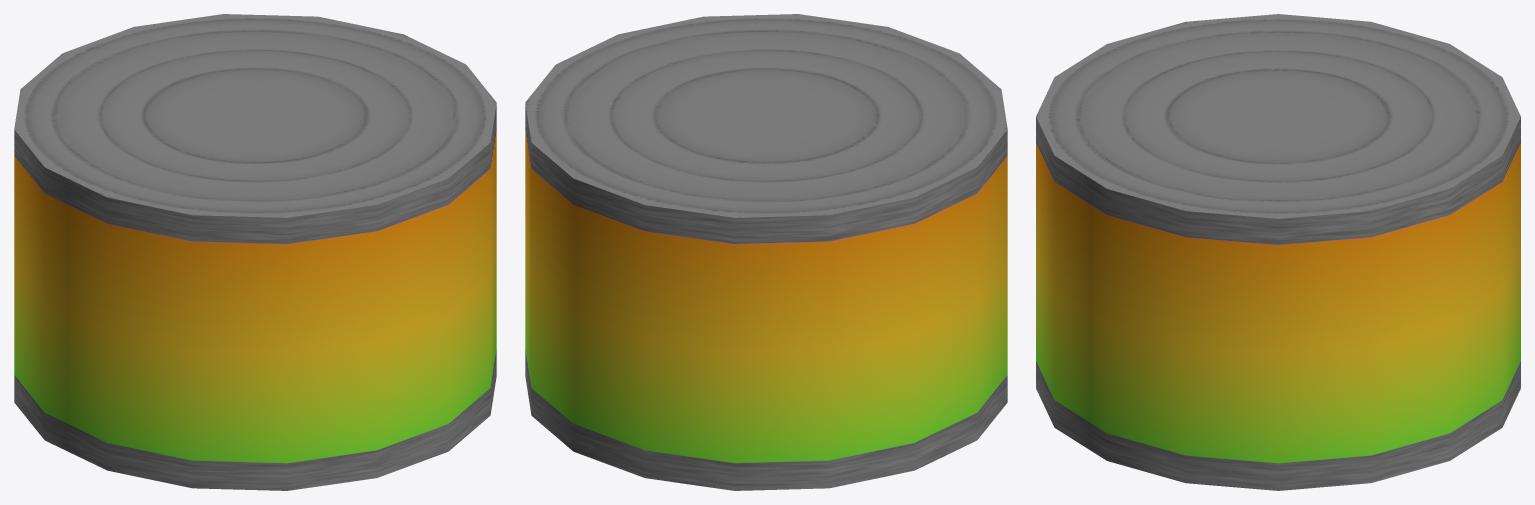
Rendered from tincangradient.glb.
3 renders of one model, left to right at view 1: azimuth 30°, elevation 25°; view 2: azimuth 150°, elevation 25°; view 3: azimuth 270°, elevation 25°, orthographic.
Parts seen in each view (by area): view 1: tincangradient; view 2: tincangradient; view 3: tincangradient.
Part boxes in pixels (<box>): tincangradient: <box>14,14,496,490</box>; tincangradient: <box>525,14,1007,490</box>; tincangradient: <box>1036,14,1520,490</box>.
Bounding box in the file's own units: 0.6386 × 0.3954 × 0.6386.
Materials: 1 (1 with a texture image).
